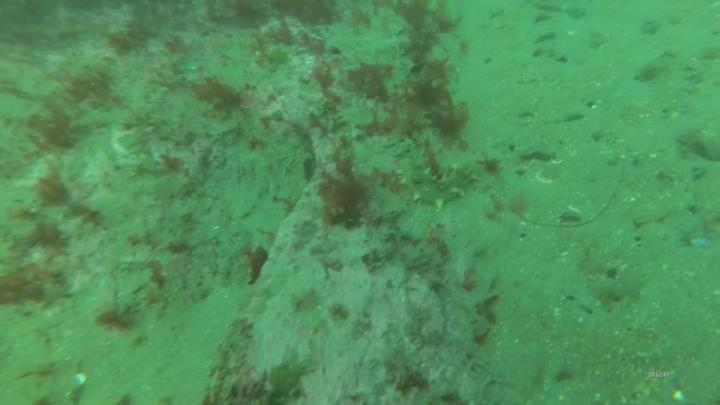holothurian: (396, 158, 479, 214)
